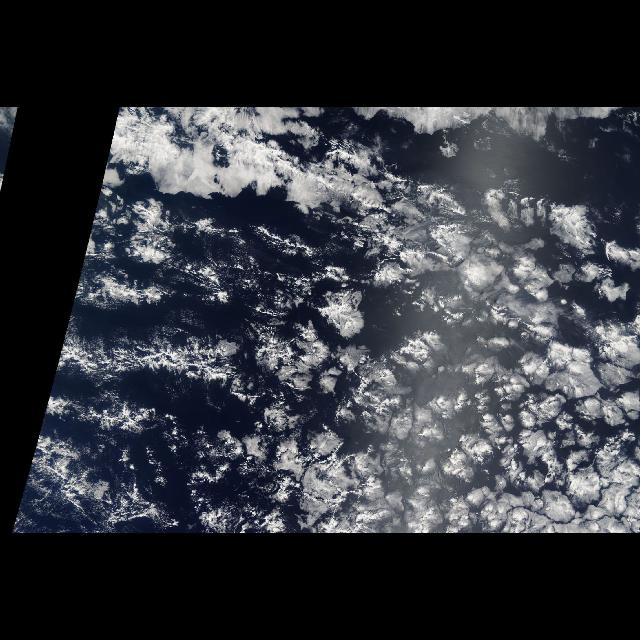Fish: (36, 306, 252, 448)
Flower: (231, 187, 639, 533)
